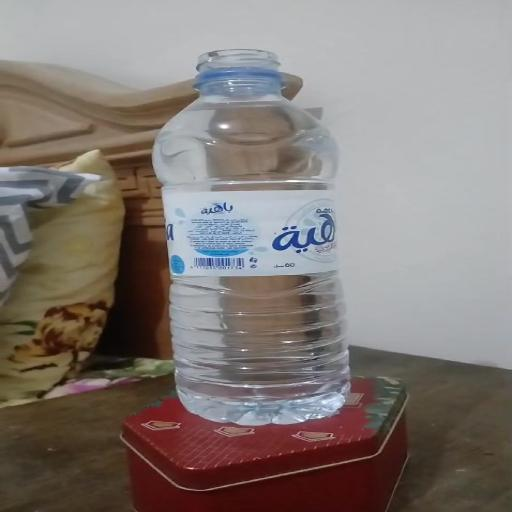bouteille non conformite: (132, 46, 390, 427)
